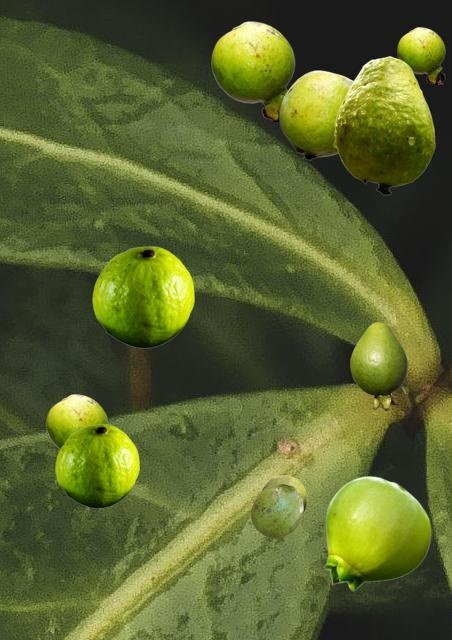guava: (333, 56, 434, 194), (324, 476, 430, 590), (92, 246, 193, 347), (211, 21, 294, 120), (55, 424, 138, 507), (279, 70, 352, 159), (350, 322, 406, 409), (46, 394, 107, 448), (250, 484, 302, 537), (397, 27, 444, 83), (260, 475, 306, 514)
